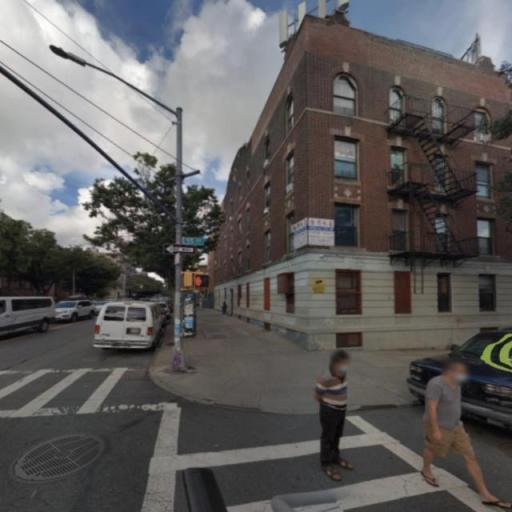off: (35, 17, 115, 92)
